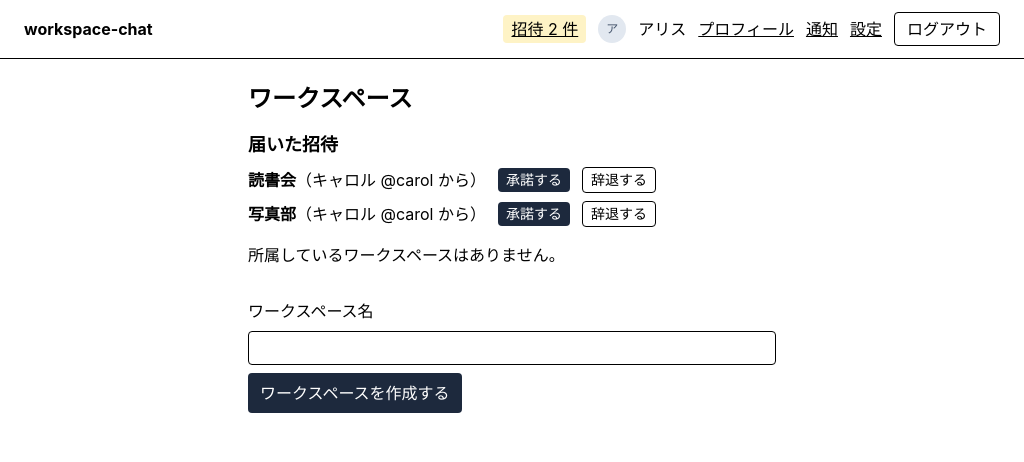
Scenario: 届いた招待の承諾と辞退（F-38） › 辞退が断られた後に別の招待の承諾が通ったら、辞退の理由を残さない
The image size is (1024, 462).
Click the button with aria-label "読書会 への招待を辞退する" at (619, 180), box left=582, top=167, right=656, bottom=193
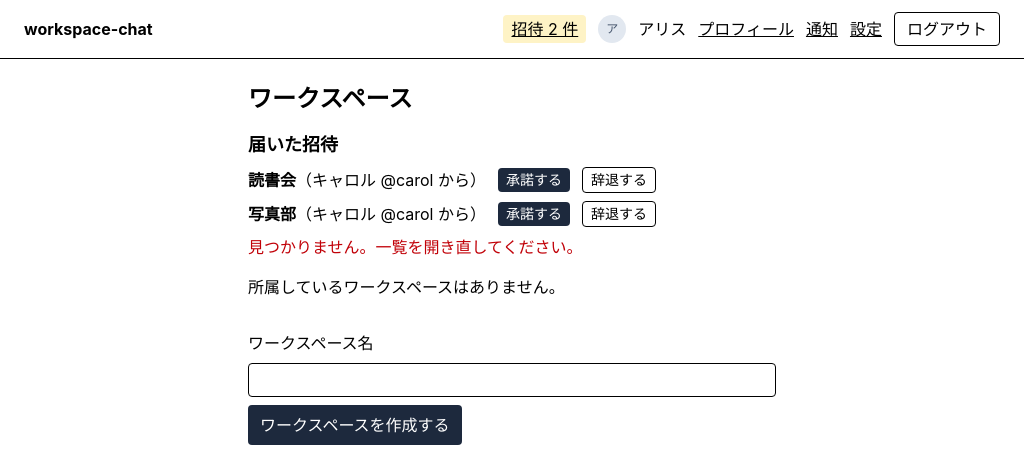
Expected: the text "見つかりません。一覧を開き直してください。" is shown, left=248, top=237, right=583, bottom=257
Click the button with aria-label "写真部 への招待を承諾する" at (534, 214), box left=498, top=202, right=570, bottom=226
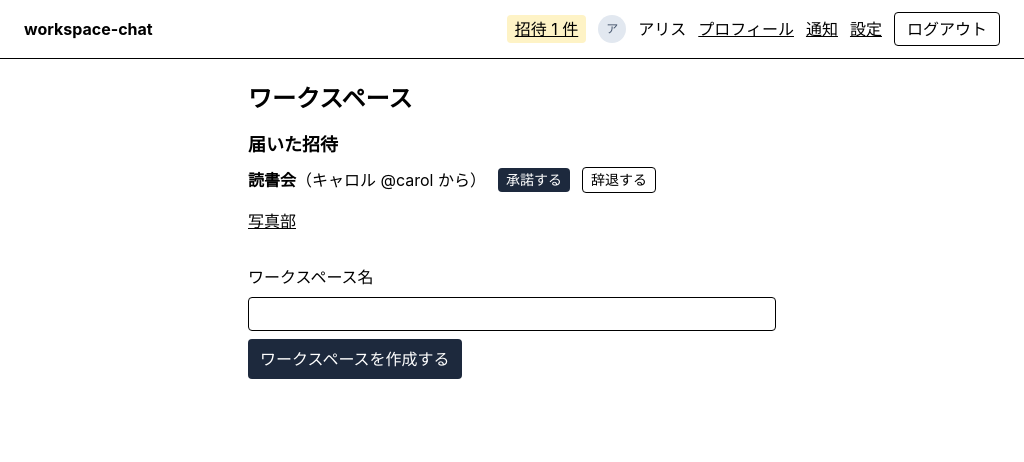
Expected: the link "写真部" is shown, left=248, top=211, right=296, bottom=231
Expected: the list "届いた招待" no longer shows "写真部"
Expected: the text "見つかりません" is gone
